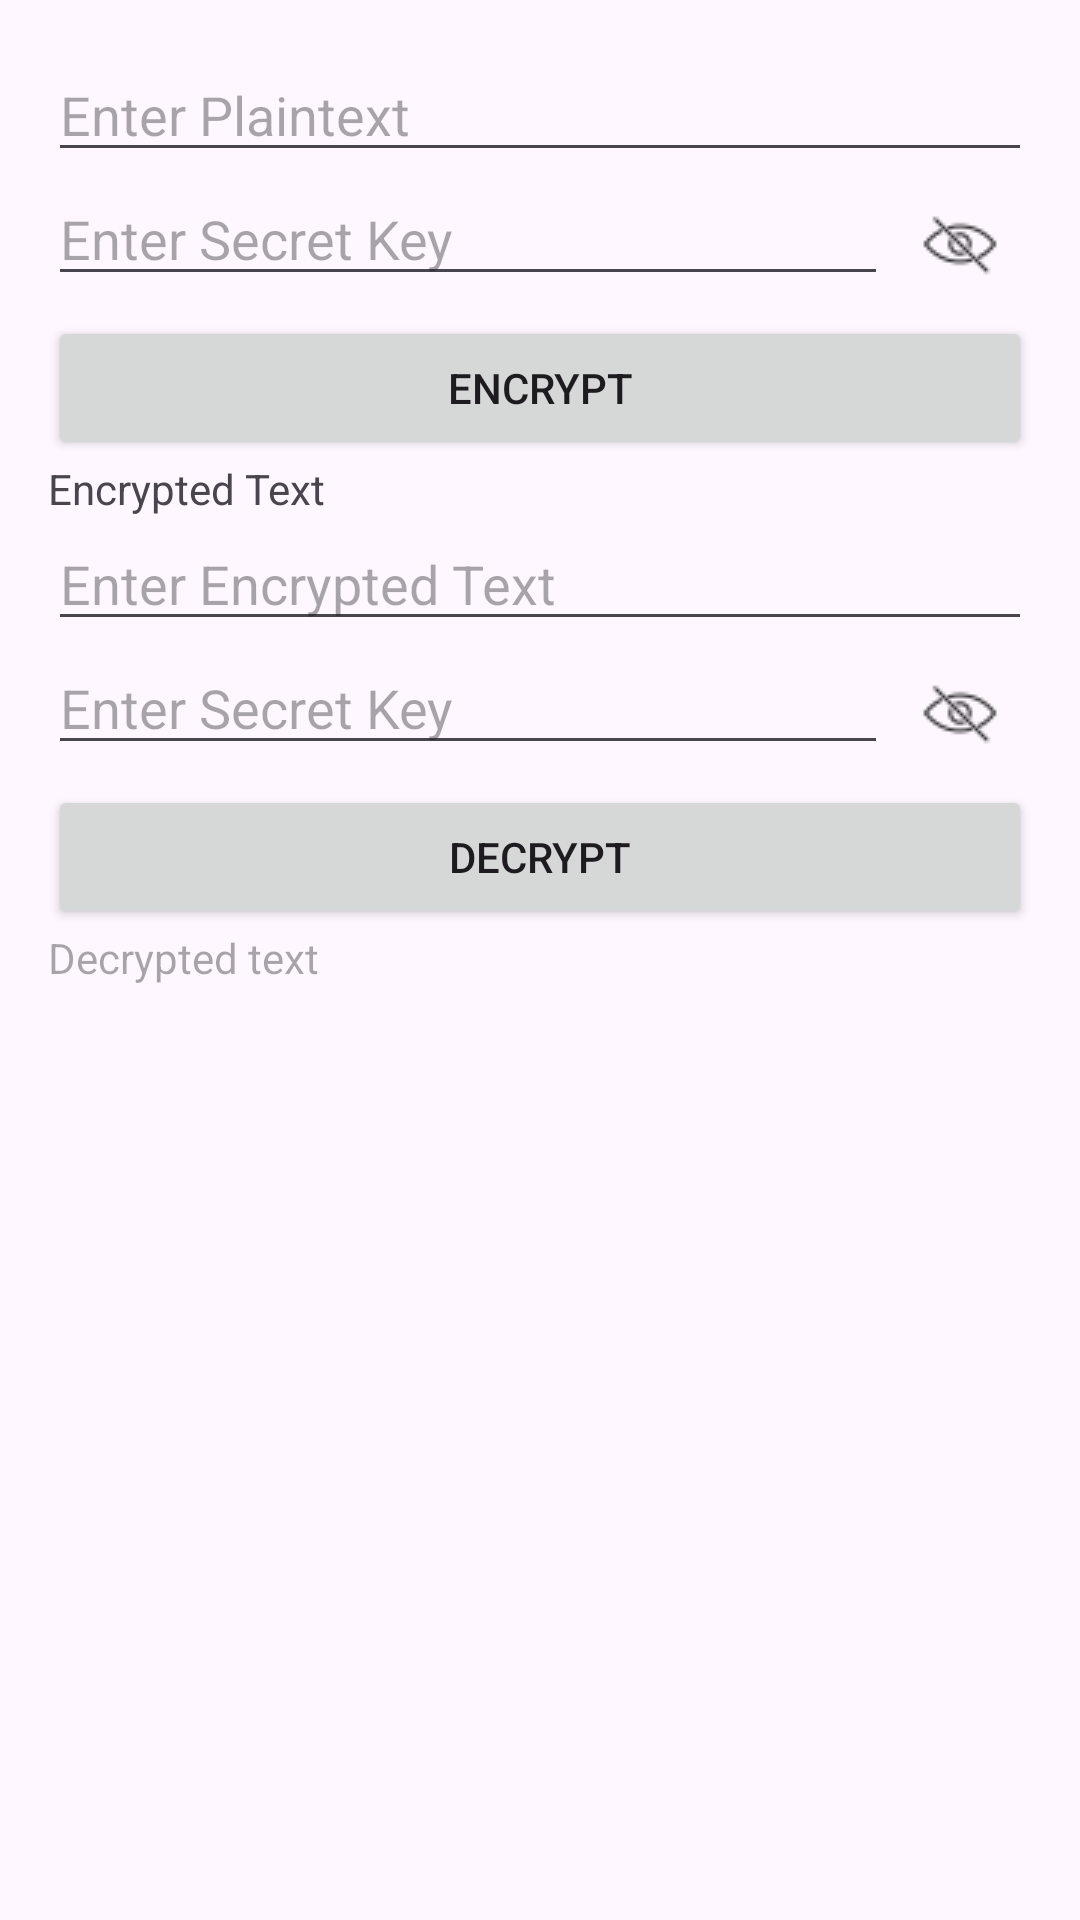

Icons on this 1080 × 1920 Android screen, each with its box as {"x1": x1, "y1": y1, "x2": x2, "y2": y2}:
Toggle password visibility: {"x1": 923, "y1": 216, "x2": 997, "y2": 274}, {"x1": 923, "y1": 685, "x2": 997, "y2": 743}
